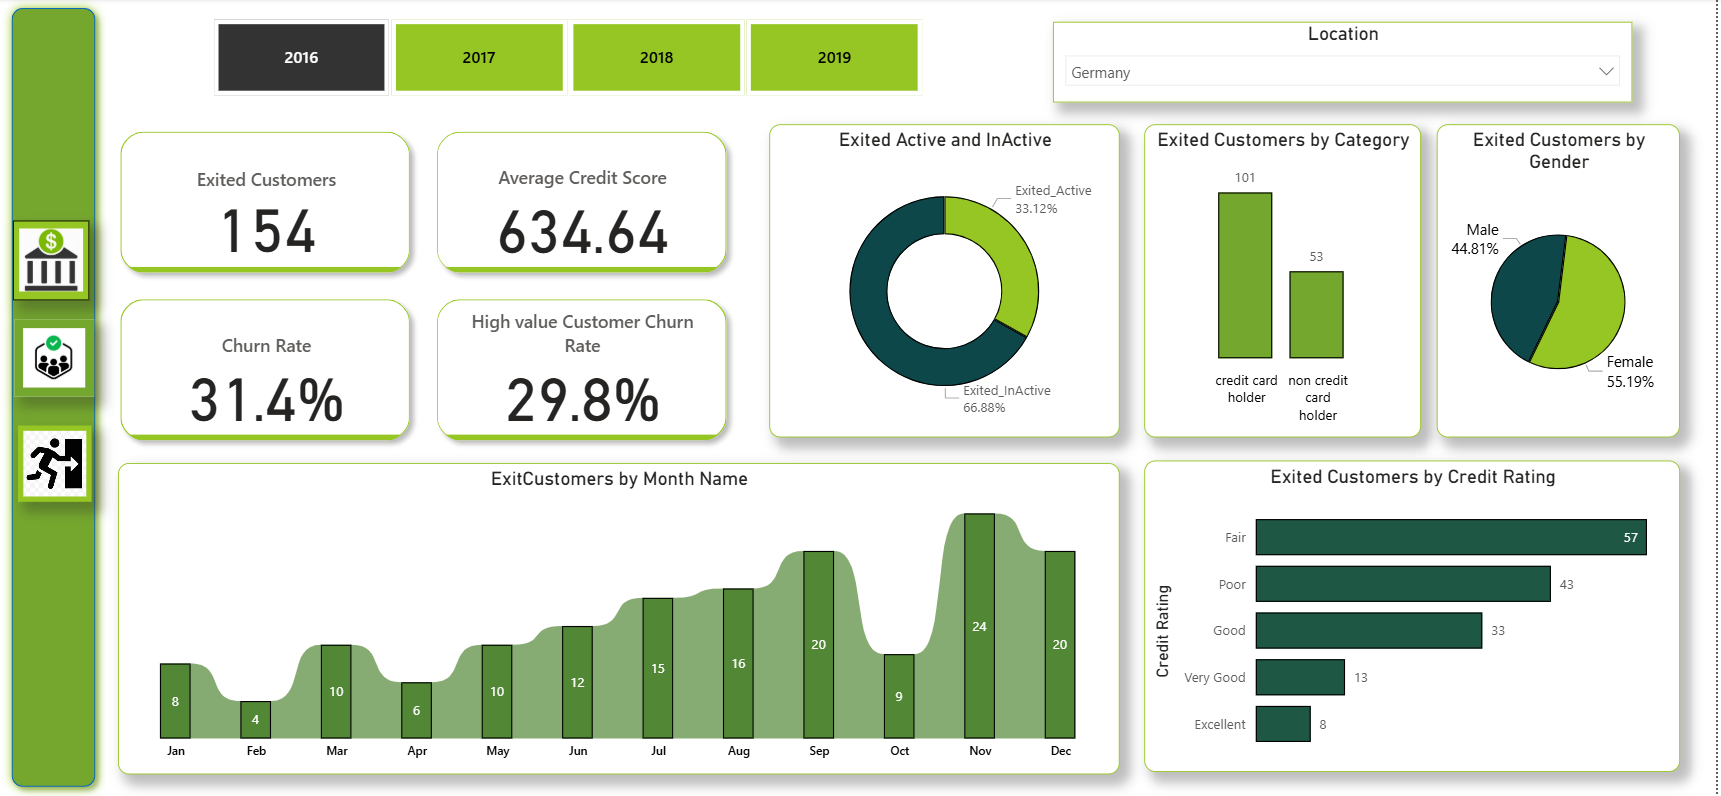

What the dashboard file says about the page in this screenshot:
{"tool":"powerbi","page":{"name":"ExitedCustomers","canvas":[1550,720],"ordinal":2},"visuals":[{"type":"shape","box":[2.8,0,93.3,720.3],"z":0,"group":"g1"},{"type":"clusteredBarChart","title":"Exited Customers by Credit Rating","fields":{"Category":["Bank_Churn.Credit Rating"],"Y":["Bank_Churn.ExitCustomers"]},"box":[1033.3,416.7,483.3,281],"z":0},{"type":"clusteredColumnChart","title":"Exited Customers by Category","fields":{"Category":["CreditCard.Category"],"Y":["Bank_Churn.ExitCustomers"]},"box":[1033.3,113.9,249.5,282.2],"z":1000},{"type":"image","box":[16.9,385.1,66.3,69.1],"z":1000,"group":"g1"},{"type":"slicer","fields":{"Values":["Bank_Churn.Year"]},"box":[172.3,12.3,680.9,82],"z":2000},{"type":"image","box":[12.9,200.3,69.1,71.9],"z":2000,"group":"g1"},{"type":"pieChart","title":"Exited Customers by Gender","fields":{"Category":["Gender.GenderCategory"],"Y":["Bank_Churn.ExitCustomers"]},"box":[1297.3,113.9,219.2,282.2],"z":3000},{"type":"image","box":[14,290.1,72.2,69.7],"z":3000,"group":"g1"},{"type":"cardVisual","fields":{"Data":["Bank_Churn.ExitCustomers","Bank_Churn.Avg_Credit_Score","Bank_Churn.Churn rate","Bank_Churn.High Value Customer Churn"]},"box":[93.3,104.2,581.4,312.5],"z":4000},{"type":"donutChart","title":"Exited Active and InActive","fields":{"Y":["Bank_Churn.Exited_Active","Bank_Churn.Exited_InActive"]},"box":[695.3,113.9,316.2,282.2],"z":5000},{"type":"ribbonChart","fields":{"Y":["Bank_Churn.ExitCustomers"],"Category":["Date.Month Name"]},"box":[108.2,419.3,902.8,280.7],"z":6000},{"type":"slicer","title":"Location","fields":{"Values":["Geography.GeographyLocation"]},"box":[951.7,21.9,522.3,72.5],"z":7000},{"type":"group","id":"g1","title":"Group 1","box":[2.8,0,93.3,720.3],"z":8000}]}

Visuals, with their boxes in screenshot pixels (x1, y1, x2, y2), scaled from the page's 1550x720 canvas onto the 1721x796 screenshot:
shape: [left=3, top=0, right=107, bottom=795]
"Exited Customers by Credit Rating" clusteredBarChart: [left=1147, top=461, right=1684, bottom=771]
"Exited Customers by Category" clusteredColumnChart: [left=1147, top=126, right=1424, bottom=438]
image: [left=19, top=426, right=92, bottom=502]
slicer - Bank_Churn.Year: [left=191, top=14, right=947, bottom=104]
image: [left=14, top=221, right=91, bottom=301]
"Exited Customers by Gender" pieChart: [left=1440, top=126, right=1684, bottom=438]
image: [left=16, top=321, right=96, bottom=398]
cardVisual - Bank_Churn.ExitCustomers x Bank_Churn.Avg_Credit_Score: [left=104, top=115, right=749, bottom=461]
"Exited Active and InActive" donutChart: [left=772, top=126, right=1123, bottom=438]
ribbonChart - Bank_Churn.ExitCustomers x Date.Month Name: [left=120, top=464, right=1123, bottom=774]
"Location" slicer: [left=1057, top=24, right=1637, bottom=104]
"Group 1" group: [left=3, top=0, right=107, bottom=795]
